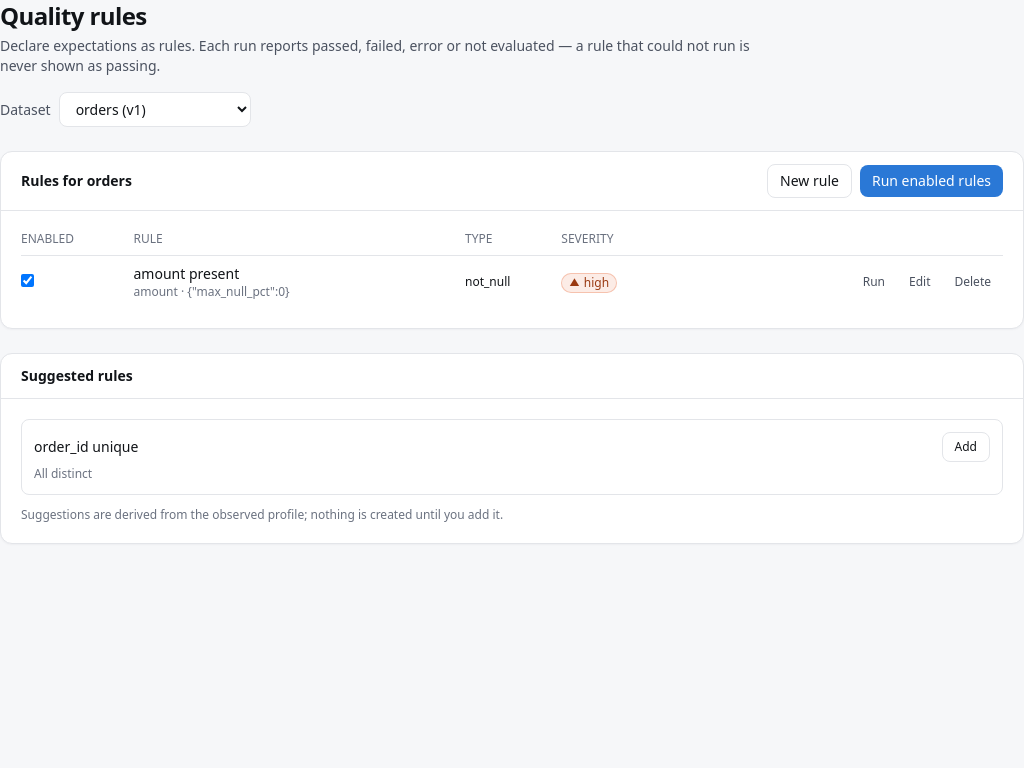
Test: RulesPage › runs rules and shows violations with examples
Click the button "Run enabled rules".
click(931, 181)  # box left=860, top=165, right=1003, bottom=197
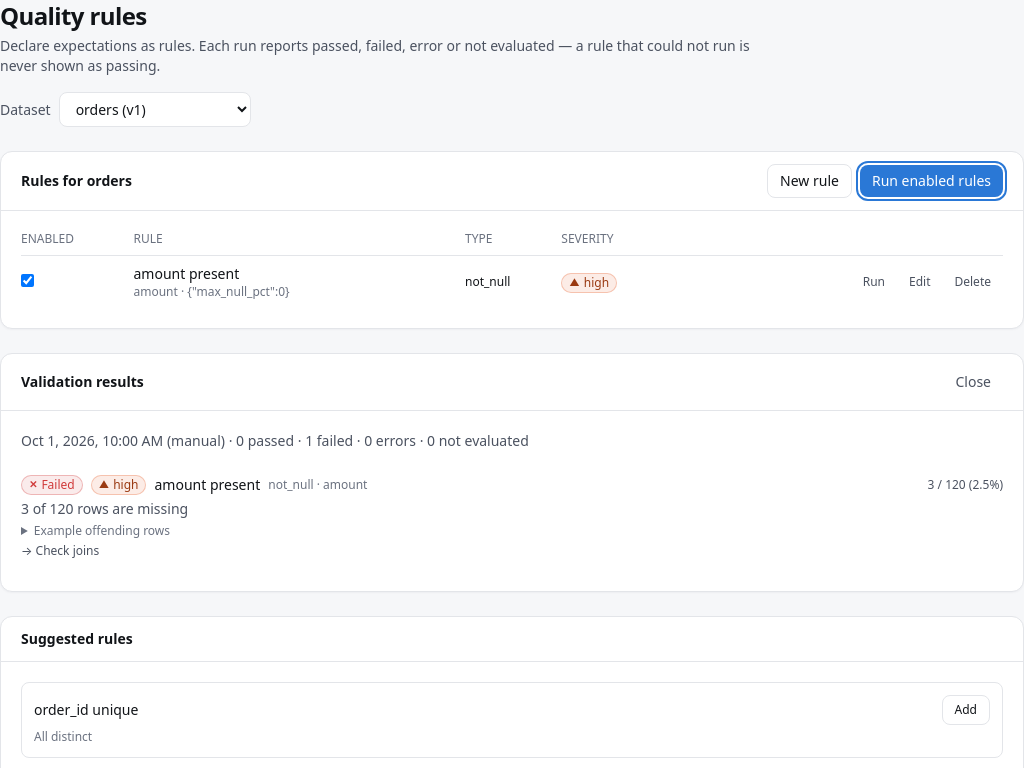
Now the text "3 of 120 rows are missing" is shown, box left=21, top=499, right=188, bottom=518
Now the text "Failed" is shown, box left=41, top=476, right=75, bottom=493
Now the text "→ Check joins" is shown, box left=21, top=542, right=99, bottom=559
